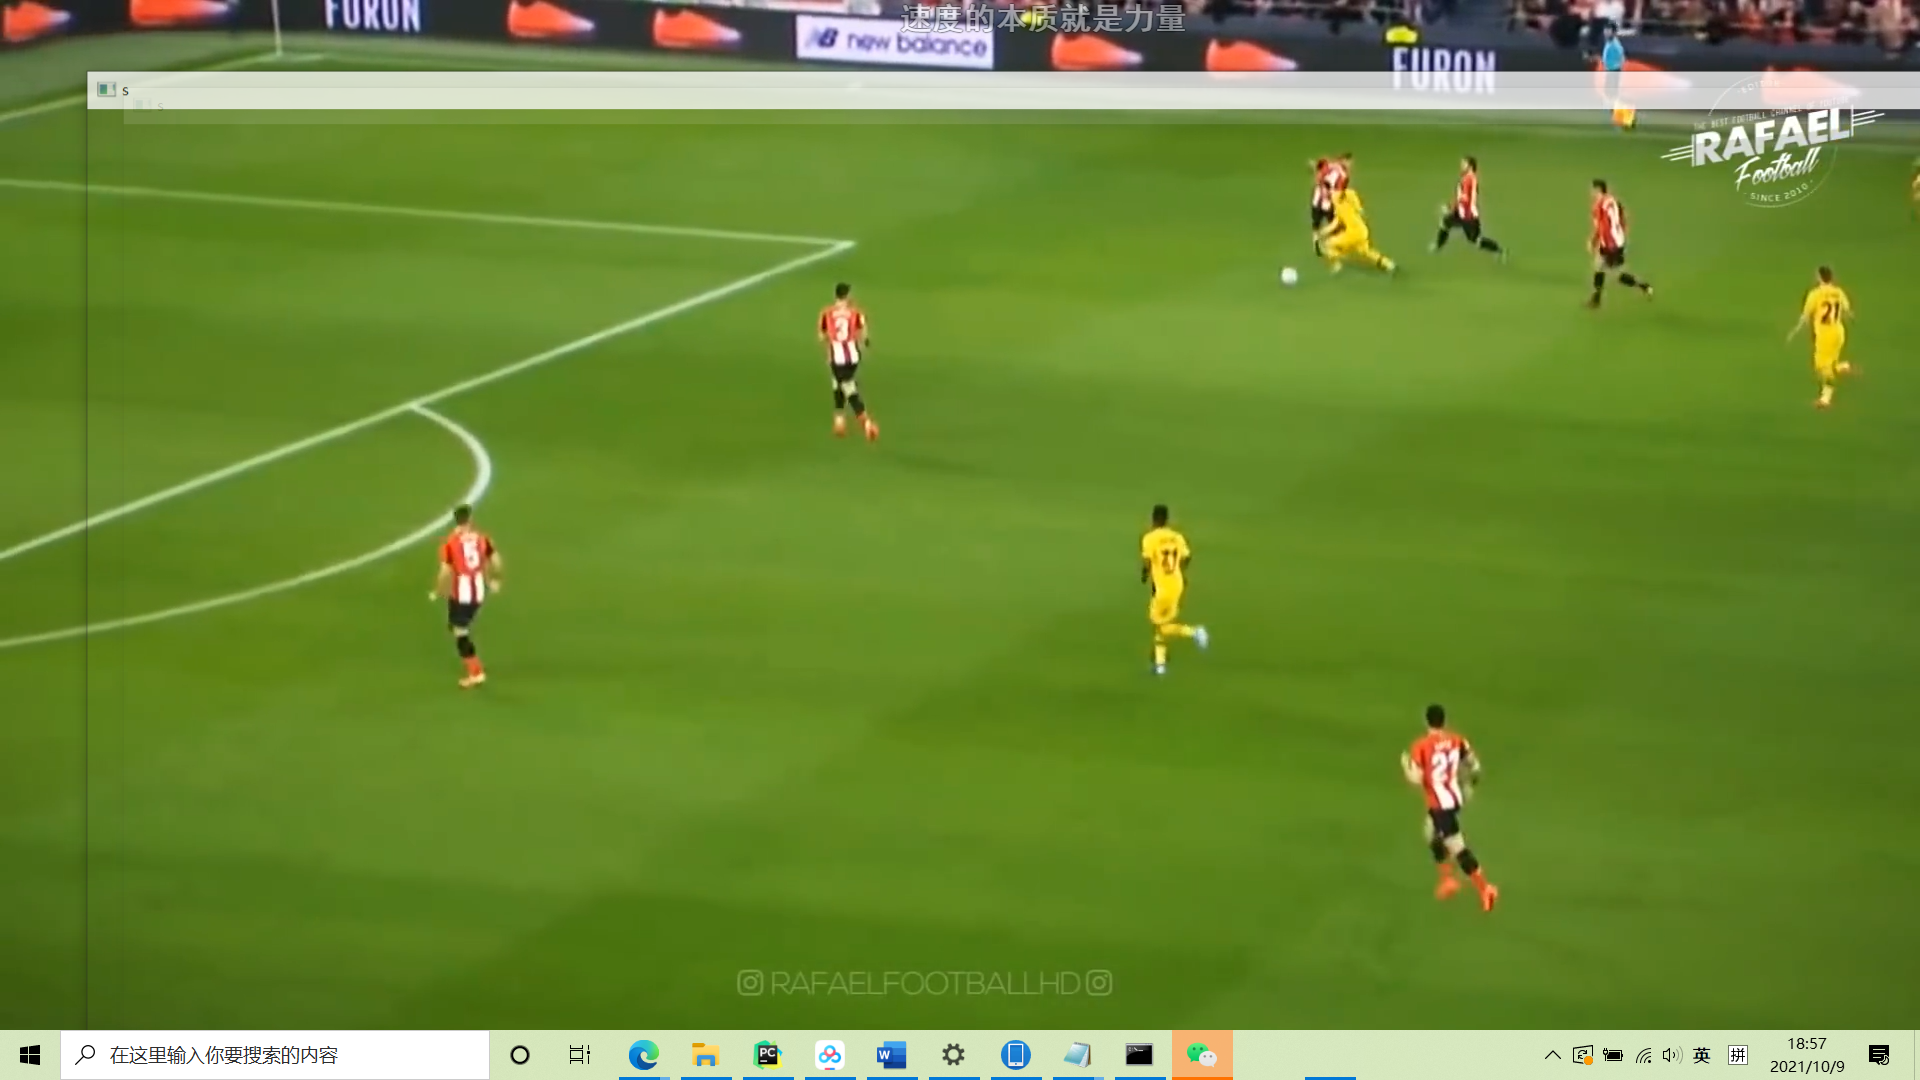ft: (1275, 264, 1302, 291)
